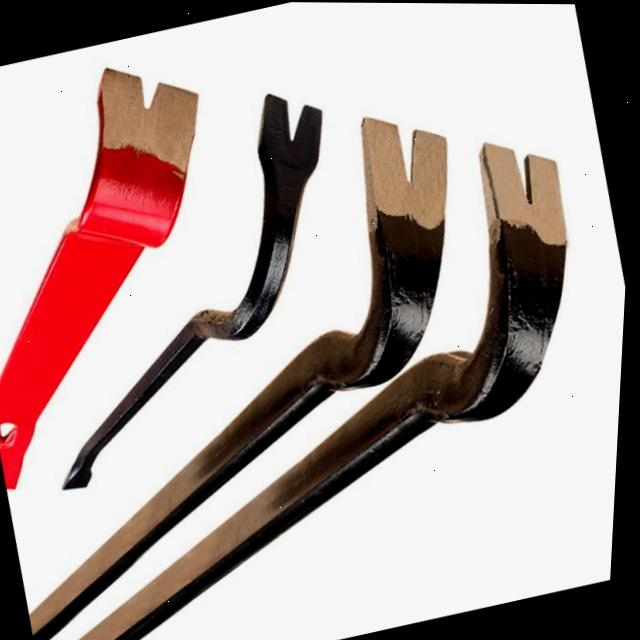crow bar: (87, 150, 561, 640), (33, 115, 446, 640), (58, 91, 324, 488), (0, 62, 199, 489)
